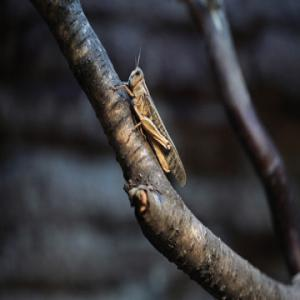locust: (122, 46, 189, 177)
